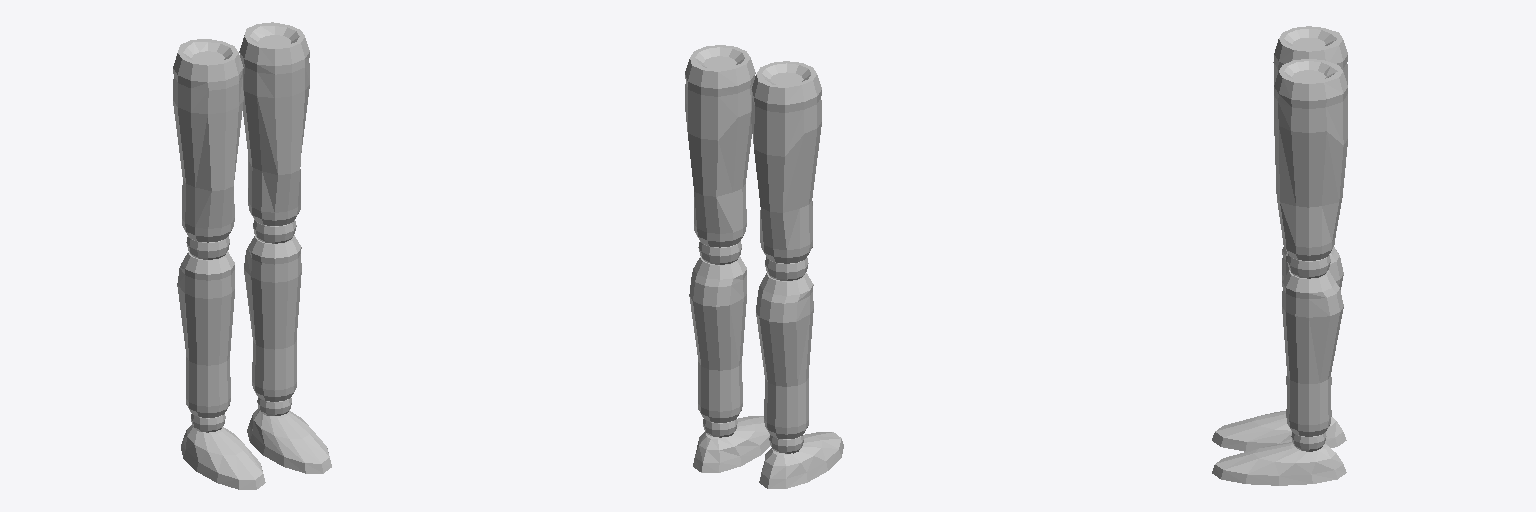
The model's file is foot.obj.
3 renders of one model, left to right at view 1: azimuth 30°, elevation 25°; view 2: azimuth 150°, elevation 25°; view 3: azimuth 270°, elevation 25°, orthographic.
Visible parts, largest first — view 1: dummy_hips3_dummy_rpelvis_dummy_rupleg, dummy_hips3_dummy_lpelvis_dummy_lupleg, dummy_hips3_dummy_rpelvis_dummy_rupleg_dummy_rknee_dummy_rleg, dummy_hips3_dummy_lpelvis_dummy_lupleg_dummy_lknee_dummy_lleg, dummy_hips3_dummy_lpelvis_dummy_lupleg_dummy_lknee_dummy_lleg_d, dummy_hips3_dummy_rpelvis_dummy_rupleg_dummy_rknee_dummy_rl.000, dummy_hips3_dummy_lpelvis_dummy_lupleg_dummy_lknee, dummy_hips3_dummy_rpelvis_dummy_rupleg_dummy_rknee; view 2: dummy_hips3_dummy_rpelvis_dummy_rupleg, dummy_hips3_dummy_lpelvis_dummy_lupleg, dummy_hips3_dummy_lpelvis_dummy_lupleg_dummy_lknee_dummy_lleg, dummy_hips3_dummy_rpelvis_dummy_rupleg_dummy_rknee_dummy_rleg, dummy_hips3_dummy_rpelvis_dummy_rupleg_dummy_rknee_dummy_rl.000, dummy_hips3_dummy_lpelvis_dummy_lupleg_dummy_lknee_dummy_lleg_d, dummy_hips3_dummy_lpelvis_dummy_lupleg_dummy_lknee, dummy_hips3_dummy_rpelvis_dummy_rupleg_dummy_rknee; view 3: dummy_hips3_dummy_lpelvis_dummy_lupleg, dummy_hips3_dummy_lpelvis_dummy_lupleg_dummy_lknee_dummy_lleg, dummy_hips3_dummy_lpelvis_dummy_lupleg_dummy_lknee_dummy_lleg_d, dummy_hips3_dummy_rpelvis_dummy_rupleg_dummy_rknee_dummy_rl.000, dummy_hips3_dummy_rpelvis_dummy_rupleg, dummy_hips3_dummy_lpelvis_dummy_lupleg_dummy_lknee, dummy_hips3_dummy_rpelvis_dummy_rupleg_dummy_rknee_dummy_rleg.
Boxes of the visible parts, x1,y1,x2,y2 form: dummy_hips3_dummy_rpelvis_dummy_rupleg: [173, 39, 243, 242]; dummy_hips3_dummy_lpelvis_dummy_lupleg: [239, 22, 309, 225]; dummy_hips3_dummy_rpelvis_dummy_rupleg_dummy_rknee_dummy_rleg: [177, 251, 234, 417]; dummy_hips3_dummy_lpelvis_dummy_lupleg_dummy_lknee_dummy_lleg: [244, 235, 301, 401]; dummy_hips3_dummy_lpelvis_dummy_lupleg_dummy_lknee_dummy_lleg_d: [247, 408, 331, 473]; dummy_hips3_dummy_rpelvis_dummy_rupleg_dummy_rknee_dummy_rl.000: [181, 425, 265, 489]; dummy_hips3_dummy_lpelvis_dummy_lupleg_dummy_lknee: [253, 220, 296, 243]; dummy_hips3_dummy_rpelvis_dummy_rupleg_dummy_rknee: [186, 236, 229, 259]; dummy_hips3_dummy_rpelvis_dummy_rupleg: [751, 61, 821, 263]; dummy_hips3_dummy_lpelvis_dummy_lupleg: [685, 45, 755, 247]; dummy_hips3_dummy_lpelvis_dummy_lupleg_dummy_lknee_dummy_lleg: [689, 256, 746, 422]; dummy_hips3_dummy_rpelvis_dummy_rupleg_dummy_rknee_dummy_rleg: [756, 273, 813, 438]; dummy_hips3_dummy_rpelvis_dummy_rupleg_dummy_rknee_dummy_rl.000: [759, 432, 843, 488]; dummy_hips3_dummy_lpelvis_dummy_lupleg_dummy_lknee_dummy_lleg_d: [693, 416, 770, 472]; dummy_hips3_dummy_lpelvis_dummy_lupleg_dummy_lknee: [698, 241, 741, 264]; dummy_hips3_dummy_rpelvis_dummy_rupleg_dummy_rknee: [765, 257, 808, 280]; dummy_hips3_dummy_lpelvis_dummy_lupleg: [1274, 59, 1347, 260]; dummy_hips3_dummy_lpelvis_dummy_lupleg_dummy_lknee_dummy_lleg: [1282, 270, 1343, 436]; dummy_hips3_dummy_lpelvis_dummy_lupleg_dummy_lknee_dummy_lleg_d: [1212, 442, 1346, 485]; dummy_hips3_dummy_rpelvis_dummy_rupleg_dummy_rknee_dummy_rl.000: [1212, 411, 1346, 451]; dummy_hips3_dummy_rpelvis_dummy_rupleg: [1273, 26, 1347, 95]; dummy_hips3_dummy_lpelvis_dummy_lupleg_dummy_lknee: [1287, 254, 1330, 278]; dummy_hips3_dummy_rpelvis_dummy_rupleg_dummy_rknee_dummy_rleg: [1282, 247, 1343, 384].
Size of the model in its own units: 30.56 by 91.58 by 28.26.